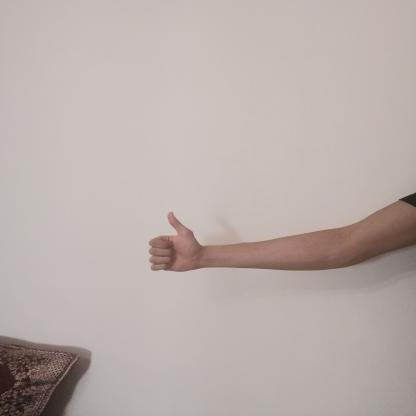ALIF: (134, 207, 213, 280)
